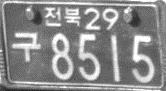1: (108, 33, 121, 83)
2: (83, 6, 102, 31)
5: (130, 33, 156, 83), (76, 32, 102, 81)
8: (50, 32, 74, 80)
9: (102, 7, 119, 30)
구: (10, 30, 43, 63)
전북_O: (43, 5, 81, 26)
